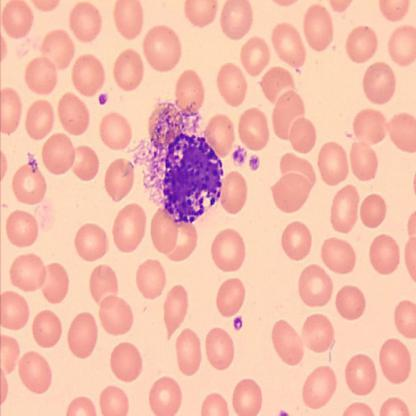Basophil: (160, 130, 228, 228)
